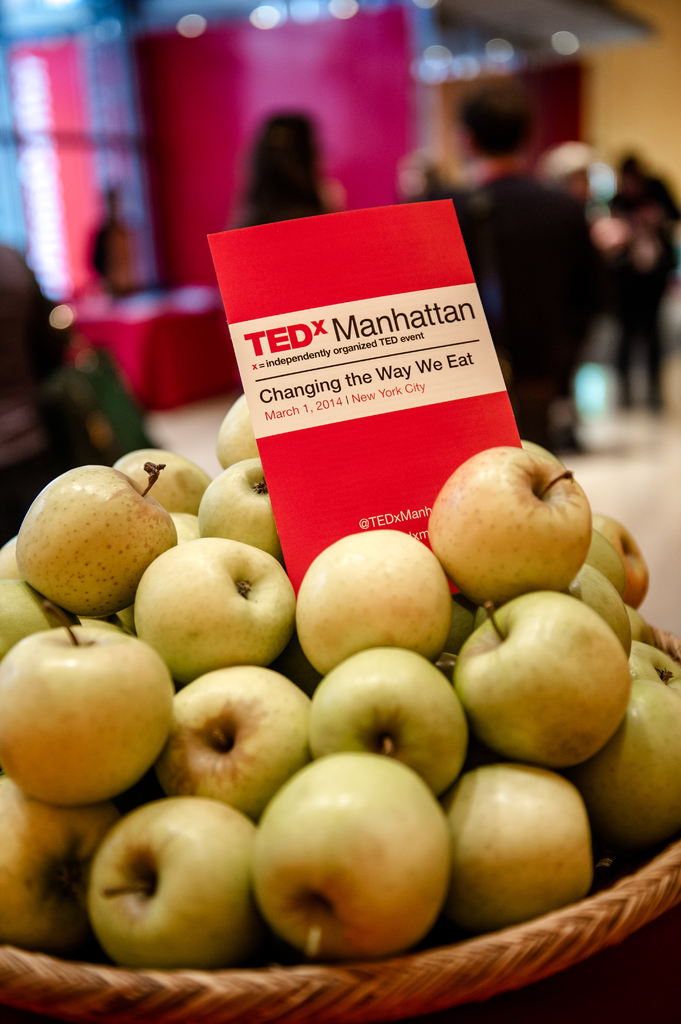Apple: (0, 384, 680, 981)
